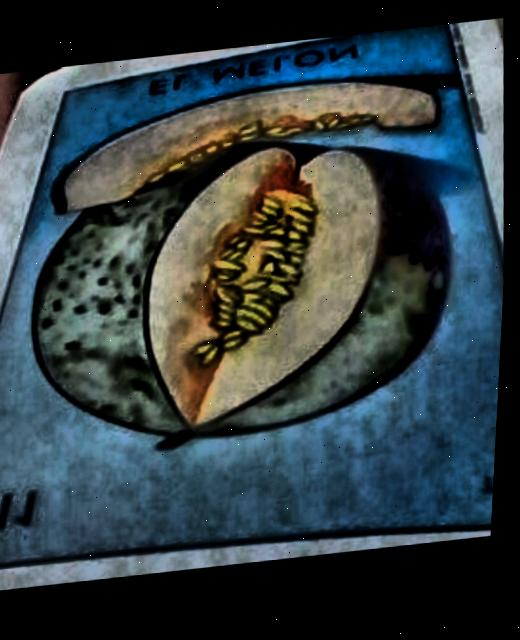El Melon: (0, 29, 507, 567)
